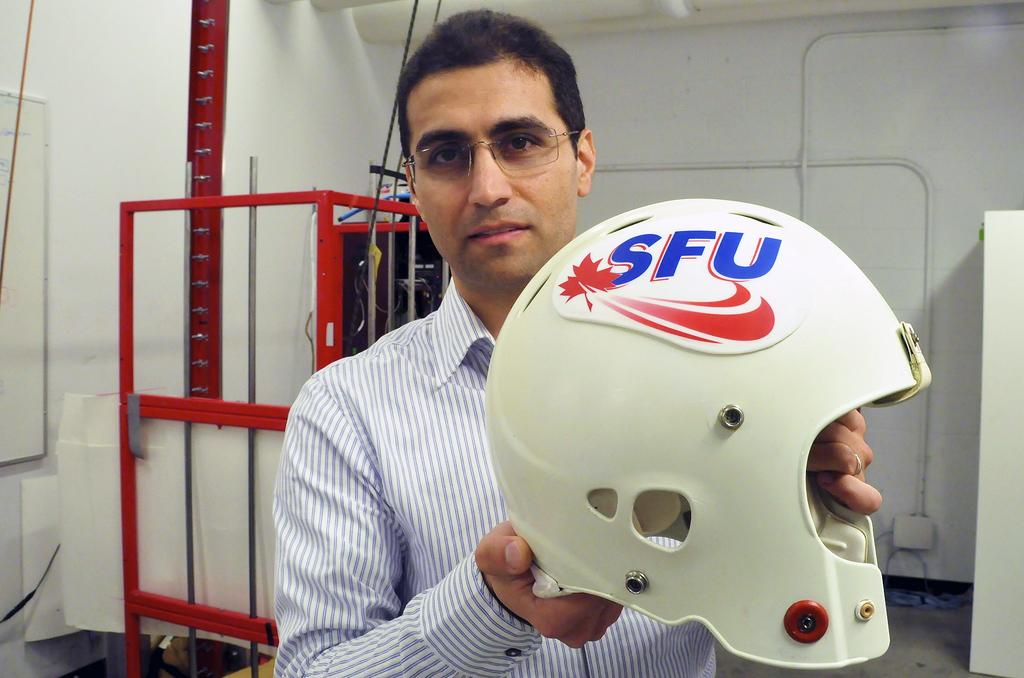helmet: (484, 198, 891, 670)
nohelmet: (395, 8, 598, 300)
